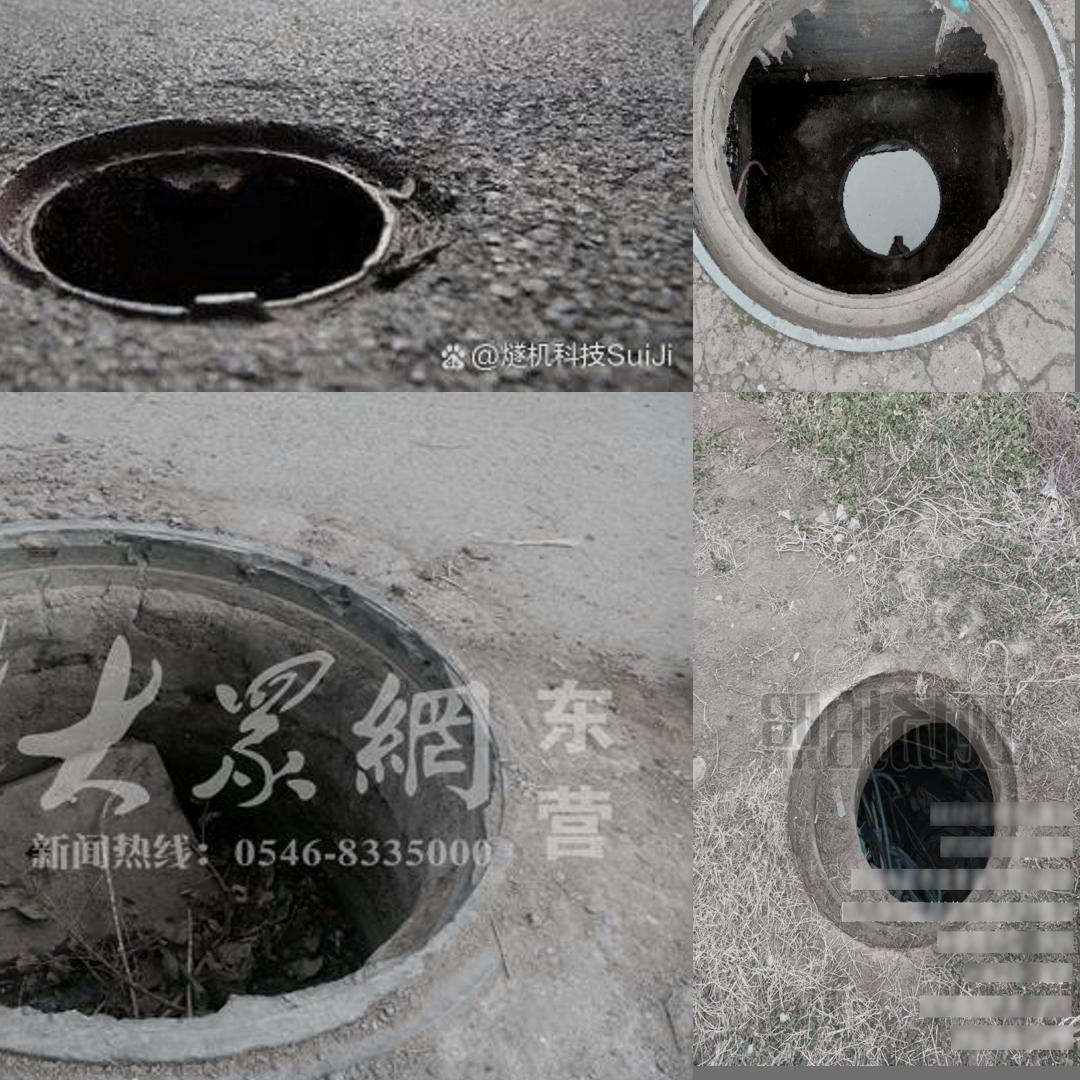lose: (0, 517, 533, 1080), (696, 0, 1072, 352), (0, 103, 462, 335), (763, 666, 1030, 947)
